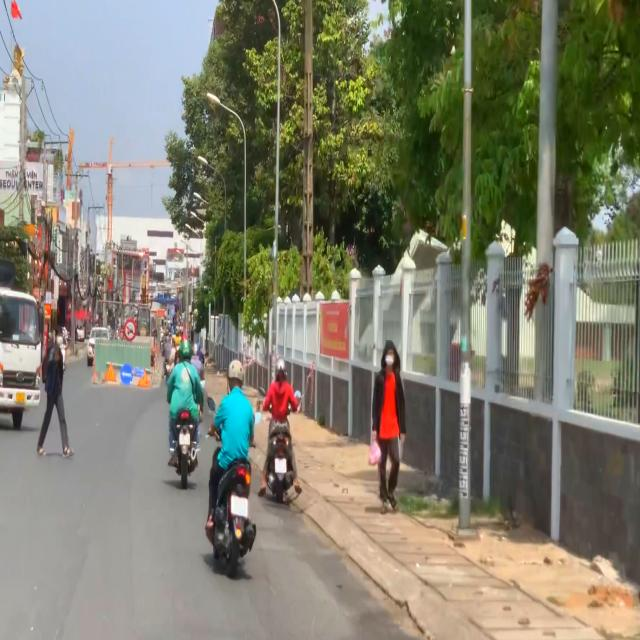Cam con lai: (124, 318, 136, 342)
Nguy hiem: (137, 367, 151, 389), (104, 361, 117, 383)
Re trai: (120, 363, 133, 386)
